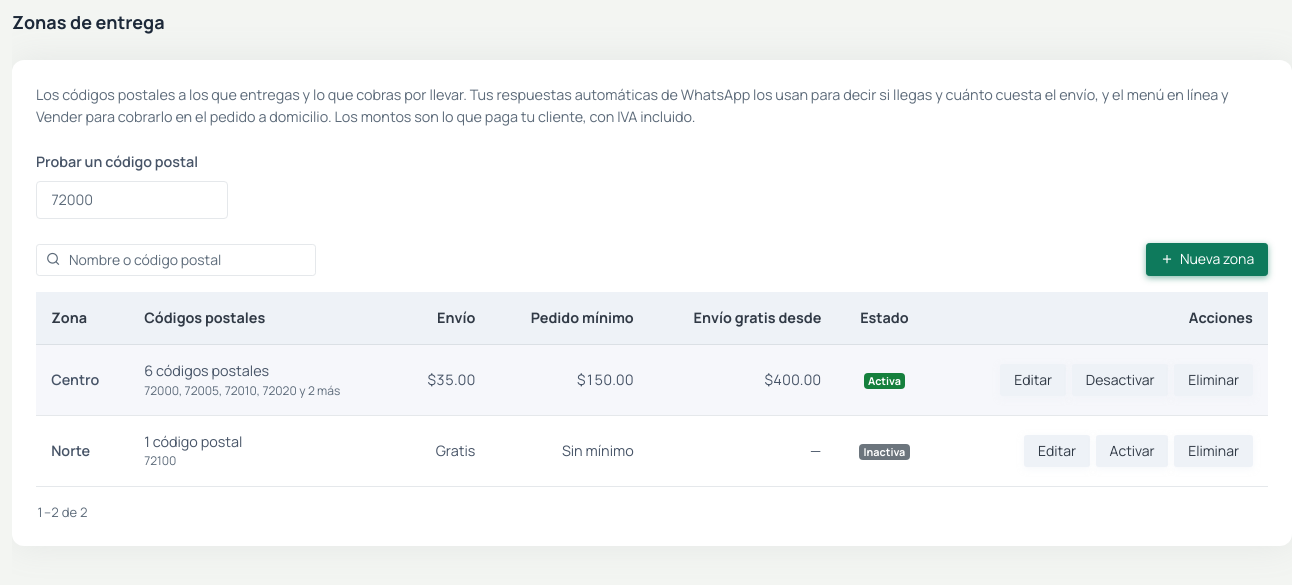
Scenario: DeliveryZones › says what the automatic replies would answer for a postal code
Type "72005" into the field labelled "Probar un código postal". click: x=132, y=200
box: [36, 181, 228, 219]
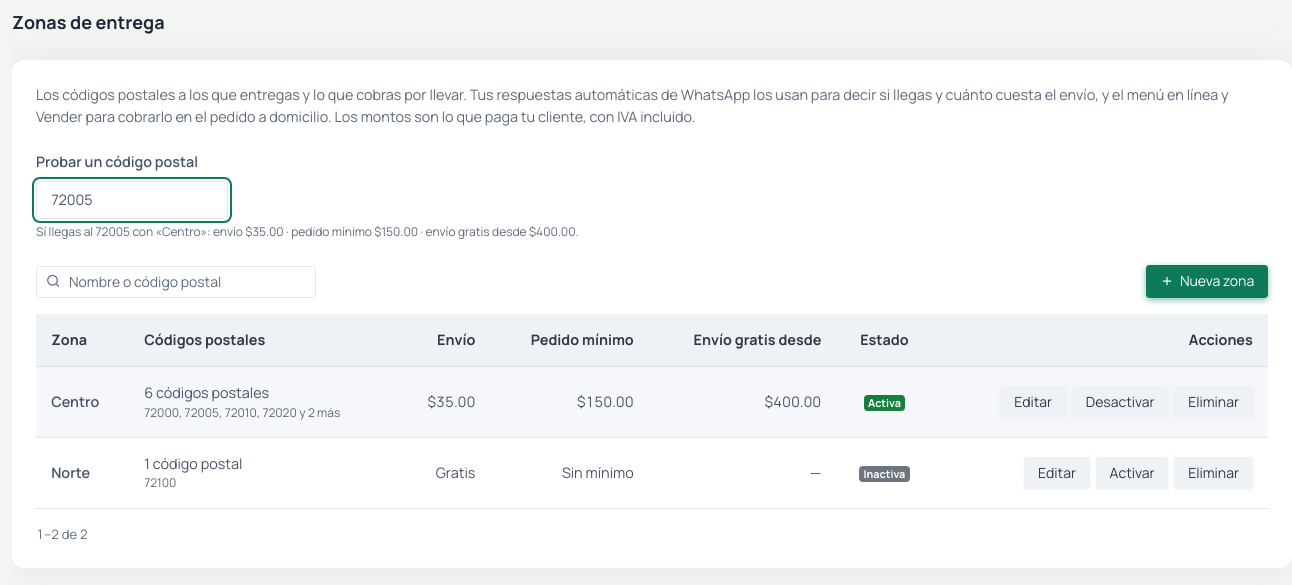
Now the message shows "Sí llegas al 72005 con «Centro»: envío $35.00 · pedido mínimo $150.00 · envío gratis desde $400.00.", box [36, 223, 578, 240]
Replace the text in the field labelled "Probar un código postal" with "72100". click: x=132, y=200
box: [36, 181, 228, 219]
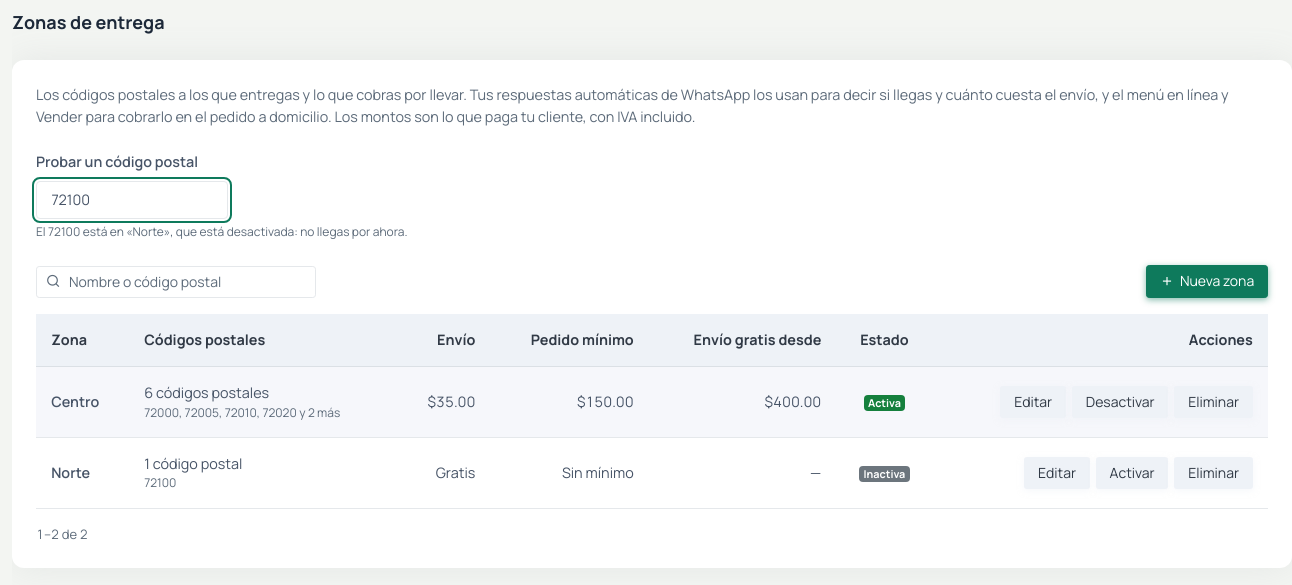
Now the message reads "El 72100 está en «Norte», que está desactivada: no llegas por ahora.", box [36, 223, 408, 240]
Replace the text in the field labelled "Probar un código postal" with "7a5000". click: x=132, y=200
box: [36, 181, 228, 219]
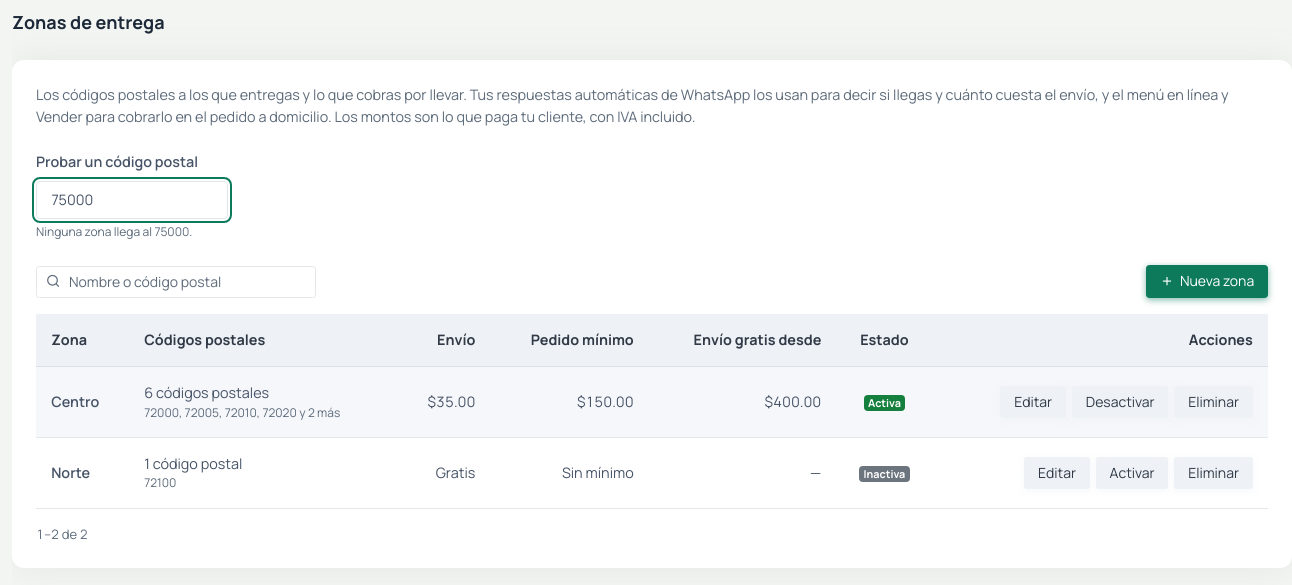
Now the field labelled "Probar un código postal" holds "75000", box [36, 181, 228, 219]
Now the message reads "Ninguna zona llega al 75000.", box [36, 223, 192, 240]
